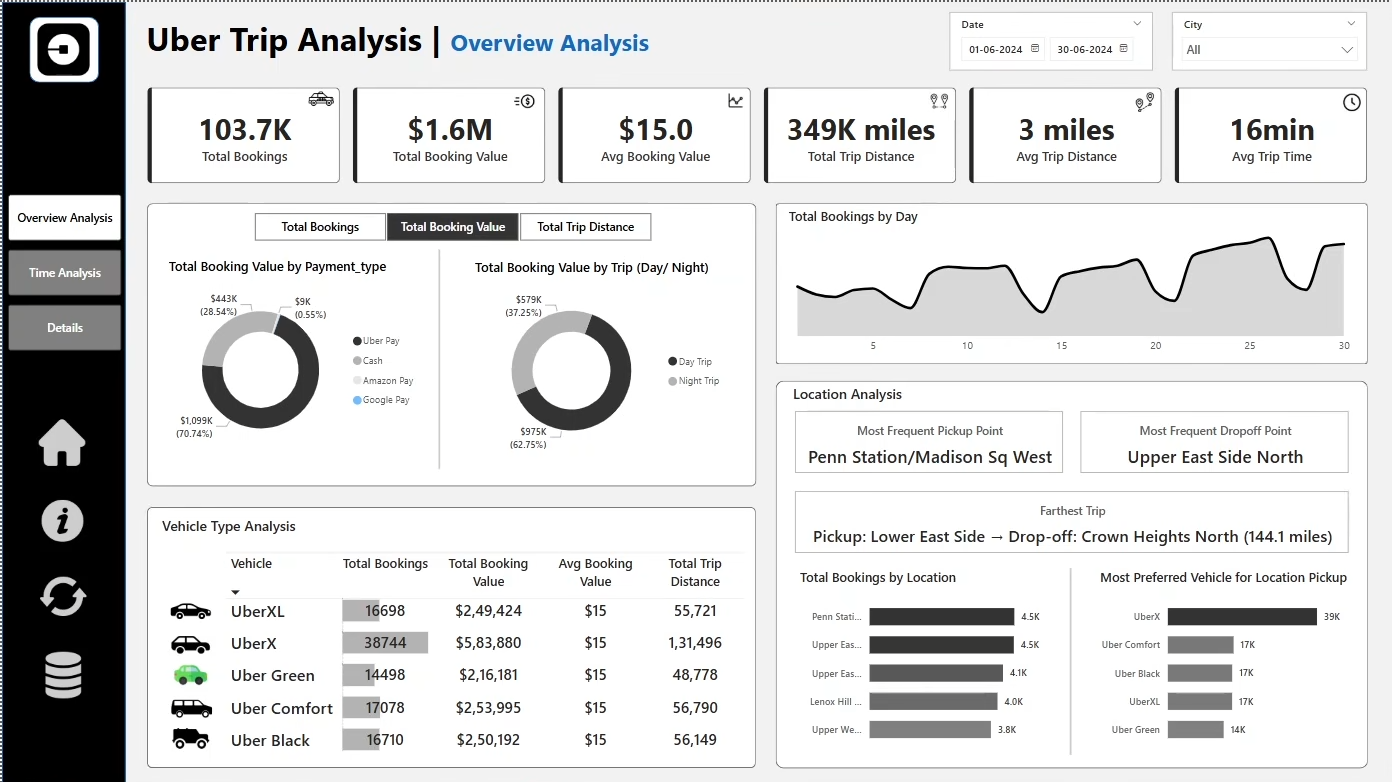

What the dashboard file says about the page in this screenshot:
{"tool":"powerbi","page":{"name":"Overview Analysis","canvas":[1600,900],"ordinal":0},"visuals":[{"type":"shape","box":[0,0,142,900.5],"z":0},{"type":"shape","box":[31.1,57.5,80,75],"z":0,"group":"g1"},{"type":"textbox","box":[142.4,0,670.7,60],"z":1000},{"type":"image","box":[32.5,61.3,80.9,68.4],"z":1000,"group":"g1"},{"type":"cardVisual","fields":{"Data":["Trip Details.Total Bookings","Trip Details.Total Booking Amount","Trip Details.Average Booking Value","Trip Details.Total Trip Distance","Trip Details.Average Trip Distance","Trip Details.Average Trip Time"]},"box":[141.5,93.3,1458.5,119.7],"z":2000},{"type":"image","box":[575.3,93.3,38.9,40.4],"z":3000},{"type":"image","box":[1278.2,98,80.9,40.4],"z":4000},{"type":"image","box":[1034,93.3,76.2,38.9],"z":5000},{"type":"image","box":[1525.4,94.9,74.6,35.8],"z":6000},{"type":"image","box":[796.1,98,74.6,35.8],"z":7000},{"type":"shape","box":[153.9,241,700,325],"z":8000},{"type":"slicer","fields":{"Values":["Dynamic Measure.Dynamic Measure"]},"box":[160.2,253.5,688.8,56],"z":9000},{"type":"donutChart","fields":{"Category":["Trip Details.Payment_type"],"Y":["Trip Details.Total Bookings"]},"box":[160.2,320.3,345.2,230.1],"z":10000},{"type":"donutChart","fields":{"Category":["Trip Details.Trip Type (Day/Night)"],"Y":["Trip Details.Total Bookings"]},"box":[508.5,320.3,340.5,230.1],"z":11000},{"type":"shape","box":[152.4,575.3,701.3,314.1],"z":12000},{"type":"pivotTable","fields":{"Rows":["Trip Details.Vehicle"],"Values":["Trip Details.Total Bookings","Trip Details.Total Booking Value","Trip Details.Average Booking Value","Trip Details.Total Trip Distance Measure"]},"box":[223.9,583.1,609.5,300.1],"z":13000},{"type":"image","box":[160.2,651.5,63.8,38.9],"z":14000},{"type":"image","box":[160.2,698.2,68.4,34.2],"z":15000},{"type":"image","box":[160.2,744.8,63.8,38.9],"z":16000},{"type":"image","box":[160.2,783.7,68.4,38.9],"z":17000},{"type":"image","box":[166.4,822.6,51.3,37.3],"z":18000},{"type":"shape","box":[894.1,241,680,185],"z":19000},{"type":"areaChart","title":"Total Bookings by Day","fields":{"Category":["Calendar Table.Date.Variation.Date Hierarchy.Day"],"Y":["Trip Details.Total Bookings"]},"box":[894.1,244.1,679.5,160.2],"z":20000},{"type":"cardVisual","fields":{"Data":["Trip Details.Most Frequent Pickup Point","Trip Details.Most Frequent Dropoff Point"]},"box":[894.1,435.4,679.5,88.6],"z":21000},{"type":"cardVisual","fields":{"Data":["Trip Details.Farthest Trip"]},"box":[894.1,533.3,679.5,82.4],"z":22000},{"type":"barChart","fields":{"Category":["Location Table.Location"],"Y":["Trip Details.Total Bookings"]},"box":[893.7,627.8,339.6,260.7],"z":23000},{"type":"barChart","title":"Most preferred vehicle for location pickup","fields":{"Category":["Trip Details.Vehicle"],"Y":["CountNonNull(Trip Details.PULocationID)"]},"box":[1247,627.8,339.6,260.7],"z":24000},{"type":"slicer","title":"Date","fields":{"Values":["Calendar Table.Date"]},"box":[1121.1,10.9,225.5,70],"z":25000},{"type":"slicer","title":"Date","fields":{"Values":["Location Table.City"]},"box":[1359,10.9,230.1,70],"z":26000},{"type":"group","id":"g1","title":"Group 1","box":[31.1,57.5,82.3,75],"z":27000}]}

Visuals, with their boxes on the page's 1600x900 design canvas (x1, y1, x2, y2). These are canvas units, not pixel positions in the 1392x782 screenshot, which may show the page scaled, cropped or inside an application window:
shape: <bbox>0, 0, 142, 900</bbox>
shape: <bbox>31, 58, 111, 132</bbox>
textbox: <bbox>142, 0, 813, 60</bbox>
image: <bbox>32, 61, 113, 130</bbox>
cardVisual - Trip Details.Total Bookings x Trip Details.Total Booking Amount: <bbox>142, 93, 1600, 213</bbox>
image: <bbox>575, 93, 614, 134</bbox>
image: <bbox>1278, 98, 1359, 138</bbox>
image: <bbox>1034, 93, 1110, 132</bbox>
image: <bbox>1525, 95, 1600, 131</bbox>
image: <bbox>796, 98, 871, 134</bbox>
shape: <bbox>154, 241, 854, 566</bbox>
slicer - Dynamic Measure.Dynamic Measure: <bbox>160, 254, 849, 310</bbox>
donutChart - Trip Details.Payment_type x Trip Details.Total Bookings: <bbox>160, 320, 505, 550</bbox>
donutChart - Trip Details.Trip Type (Day/Night) x Trip Details.Total Bookings: <bbox>508, 320, 849, 550</bbox>
shape: <bbox>152, 575, 854, 889</bbox>
pivotTable - Trip Details.Vehicle x Trip Details.Total Bookings: <bbox>224, 583, 833, 883</bbox>
image: <bbox>160, 652, 224, 690</bbox>
image: <bbox>160, 698, 229, 732</bbox>
image: <bbox>160, 745, 224, 784</bbox>
image: <bbox>160, 784, 229, 823</bbox>
image: <bbox>166, 823, 218, 860</bbox>
shape: <bbox>894, 241, 1574, 426</bbox>
"Total Bookings by Day" areaChart: <bbox>894, 244, 1574, 404</bbox>
cardVisual - Trip Details.Most Frequent Pickup Point x Trip Details.Most Frequent Dropoff Point: <bbox>894, 435, 1574, 524</bbox>
cardVisual - Trip Details.Farthest Trip: <bbox>894, 533, 1574, 616</bbox>
barChart - Location Table.Location x Trip Details.Total Bookings: <bbox>894, 628, 1233, 888</bbox>
"Most preferred vehicle for location pickup" barChart: <bbox>1247, 628, 1587, 888</bbox>
"Date" slicer: <bbox>1121, 11, 1347, 81</bbox>
"Date" slicer: <bbox>1359, 11, 1589, 81</bbox>
"Group 1" group: <bbox>31, 58, 113, 132</bbox>
